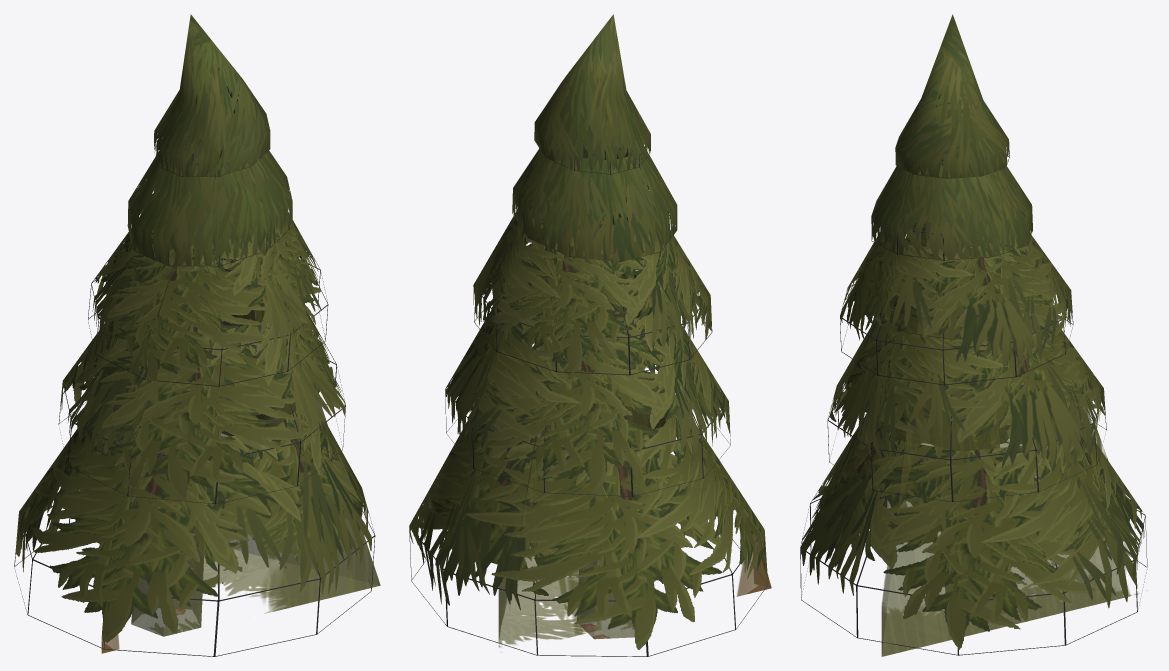
The model's file is pine_tree__cony.fbx.
3 renders of one model, left to right at view 1: azimuth 30°, elevation 25°; view 2: azimuth 150°, elevation 25°; view 3: azimuth 270°, elevation 25°, orthographic. The views are drawn at different scales.
Parts seen in each view (by area): view 1: PineTree_1.006, pinelod, wood; view 2: PineTree_1.006, pinelod, wood; view 3: PineTree_1.006, pinelod, wood.
Boxes of the visible parts, x1,y1,x2,y2 form: PineTree_1.006: (14, 14, 375, 656); pinelod: (101, 91, 380, 653); wood: (131, 261, 203, 636); PineTree_1.006: (409, 14, 767, 656); pinelod: (498, 76, 771, 647); wood: (577, 219, 652, 639); PineTree_1.006: (800, 14, 1147, 655); pinelod: (881, 155, 1138, 656); wood: (931, 237, 999, 592).
Size of the model in its own units: 913 by 1684 by 902.
